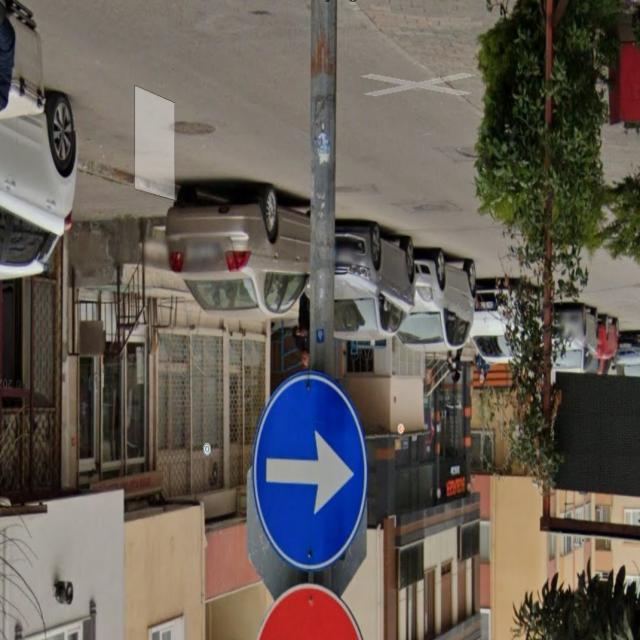Turn Right: (243, 371, 370, 568)
